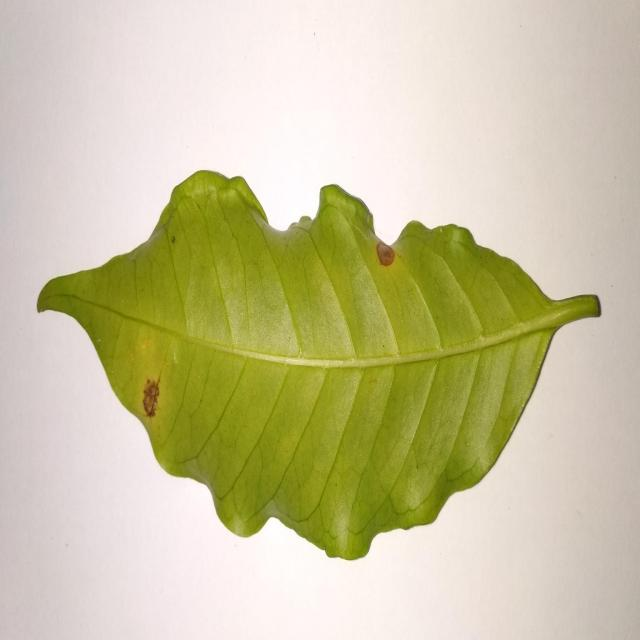Enfermedad-Mancha-de-hierro: (35, 170, 602, 564)
